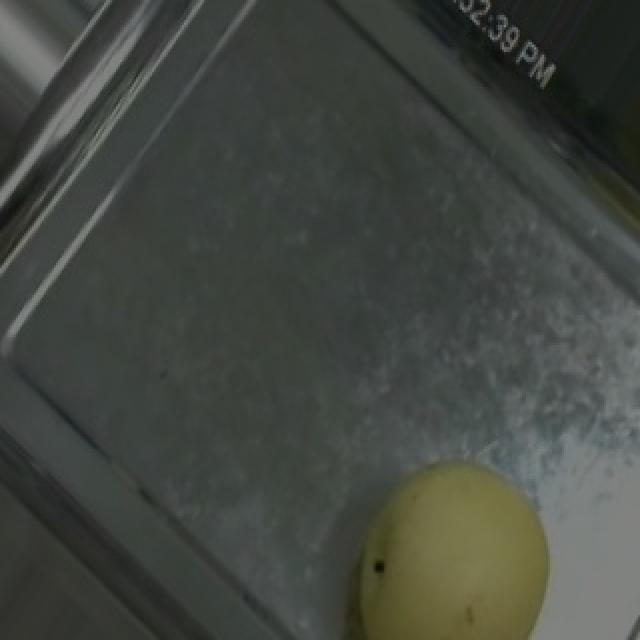Fruit: (310, 424, 588, 640)
